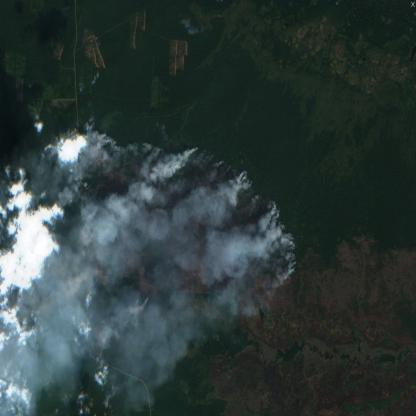fire: (70, 124, 298, 303)
